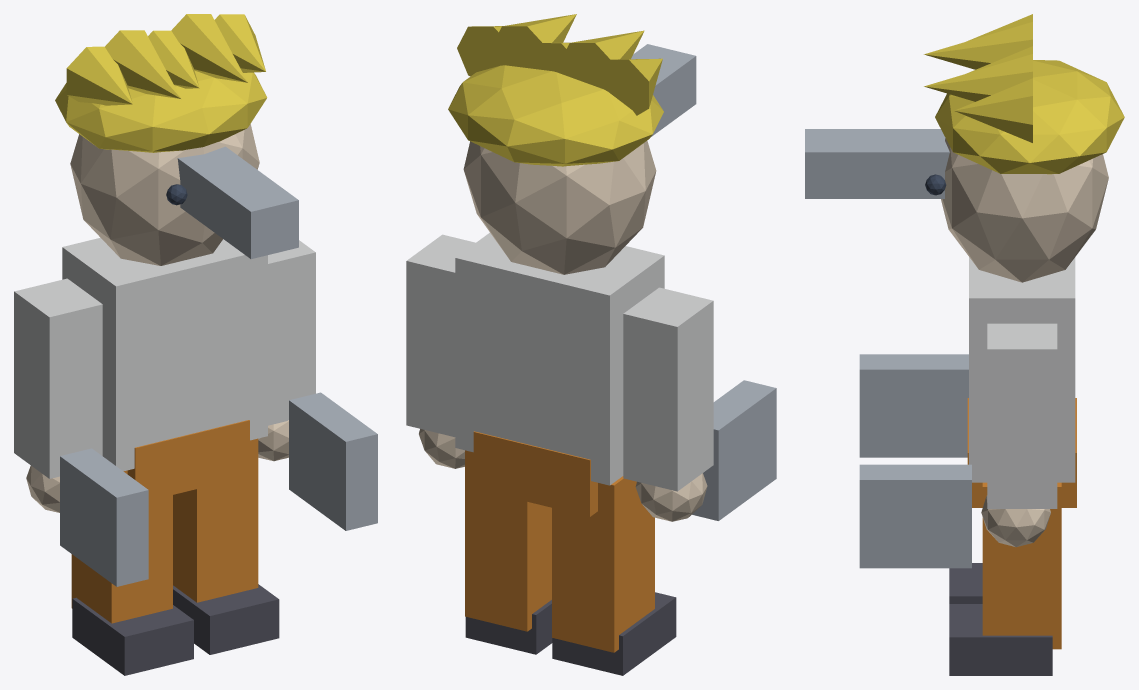
File: denji.glb
3 views of the same model, side by side, from view 1: azimuth 30°, elevation 25°; view 2: azimuth 150°, elevation 25°; view 3: azimuth 270°, elevation 25° (orthographic). The views are drawn at different scales.
Visible parts, largest first — view 1: part_000, part_002, part_010, part_013, part_008, part_020, part_021, part_019, part_006, part_001, part_005, part_004 (+8 smaller); view 2: part_000, part_010, part_002, part_013, part_004, part_008, part_006, part_020, part_001, part_005, part_019, part_015 (+7 smaller); view 3: part_010, part_006, part_013, part_021, part_000, part_020, part_019, part_008, part_009, part_018, part_015, part_017 (+3 smaller).
Boxes of the visible parts, x1,y1,x2,y2 form: part_000: (62,237,267,471); part_002: (14,278,102,478); part_010: (70,124,259,265); part_013: (55,70,267,152); part_008: (173,438,258,602); part_020: (60,448,148,586); part_021: (289,392,377,530); part_019: (177,146,298,259); part_006: (268,240,315,425); part_001: (127,420,249,500); part_005: (72,597,193,675); part_004: (71,470,172,623); part_000: (455,233,664,485); part_010: (463,141,656,274); part_002: (623,287,713,491); part_013: (448,65,663,166); part_004: (552,476,654,652); part_008: (465,450,551,631); part_006: (406,234,475,437); part_020: (692,380,776,520); part_001: (473,431,597,516); part_005: (552,592,676,675); part_019: (631,44,696,137); part_015: (559,30,644,93); part_010: (941,138,1108,282); part_006: (987,323,1057,508); part_013: (935,60,1124,174); part_021: (859,464,971,568); part_000: (969,257,1075,482); part_020: (859,354,968,457); part_019: (805,129,949,198); part_008: (982,482,1061,649); part_009: (949,604,1052,675); part_018: (954,78,1032,142); part_015: (924,22,1032,69); part_017: (924,54,1032,101).
Bounding box in the file's own units: 1.03 × 2.17 × 1.05.
